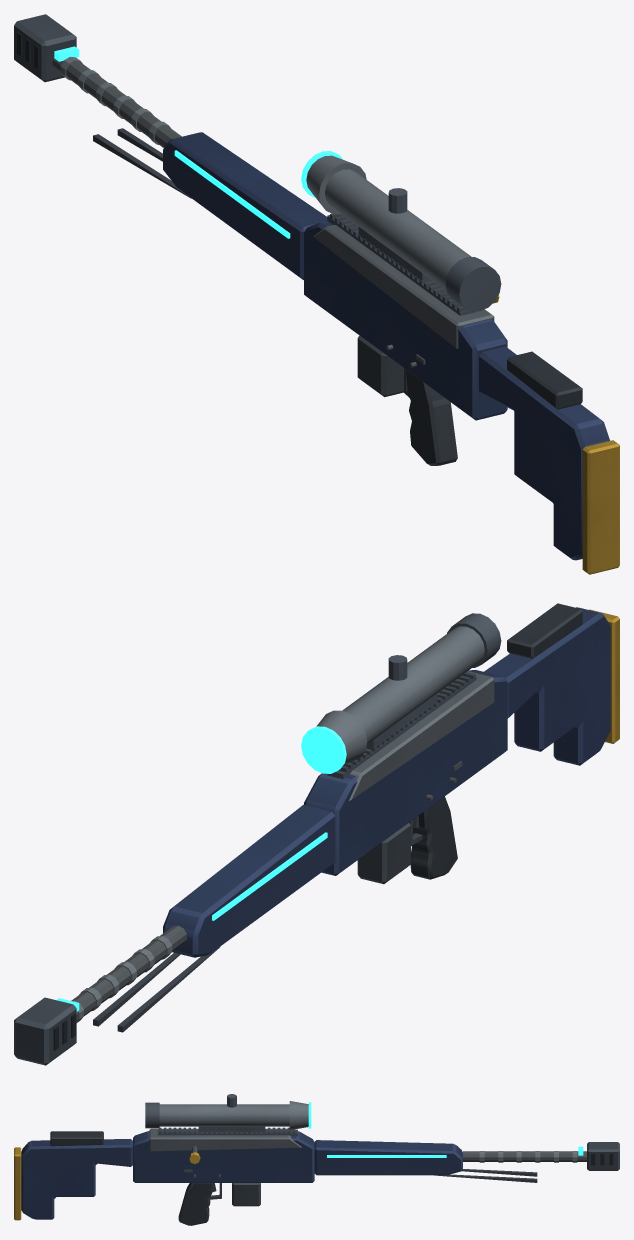
3 views of the same model, one above another, from view 1: azimuth 30°, elevation 25°; view 2: azimuth 150°, elevation 25°; view 3: azimuth 270°, elevation 25° (orthographic). The views are drawn at different scales.
Parts seen in each view (by area): view 1: r7x-sniper_gun, r7x-sniper_gunGrip, r7x-sniper_steel, r7x-sniper_glow; view 2: r7x-sniper_gun, r7x-sniper_gunGrip, r7x-sniper_glow, r7x-sniper_steel; view 3: r7x-sniper_gun, r7x-sniper_gunGrip, r7x-sniper_steel, r7x-sniper_glow.
Boxes of the visible parts, bbox=[...] form: r7x-sniper_gun: bbox=[14, 14, 609, 560]; r7x-sniper_gunGrip: bbox=[357, 335, 619, 574]; r7x-sniper_steel: bbox=[52, 57, 425, 367]; r7x-sniper_glow: bbox=[54, 46, 342, 238]; r7x-sniper_gun: bbox=[14, 607, 610, 1065]; r7x-sniper_gunGrip: bbox=[357, 603, 619, 884]; r7x-sniper_glow: bbox=[56, 726, 346, 1011]; r7x-sniper_steel: bbox=[72, 761, 462, 1020]; r7x-sniper_gun: bbox=[21, 1094, 619, 1219]; r7x-sniper_gunGrip: bbox=[14, 1131, 260, 1225]; r7x-sniper_steel: bbox=[184, 1146, 586, 1177]; r7x-sniper_glow: bbox=[308, 1102, 583, 1157].
Bounding box in the file's own units: 0.1256 × 0.3411 × 1.47.
4 materials, 3 textured.
